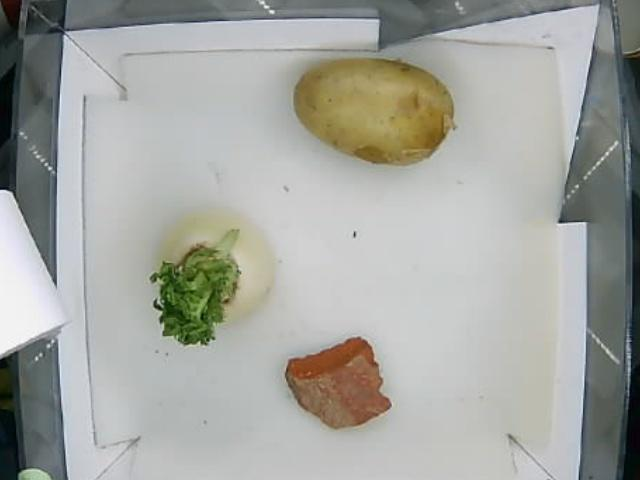Brisk: (284, 339, 396, 430)
Mooli: (155, 210, 277, 344)
Potato: (293, 56, 454, 166)
